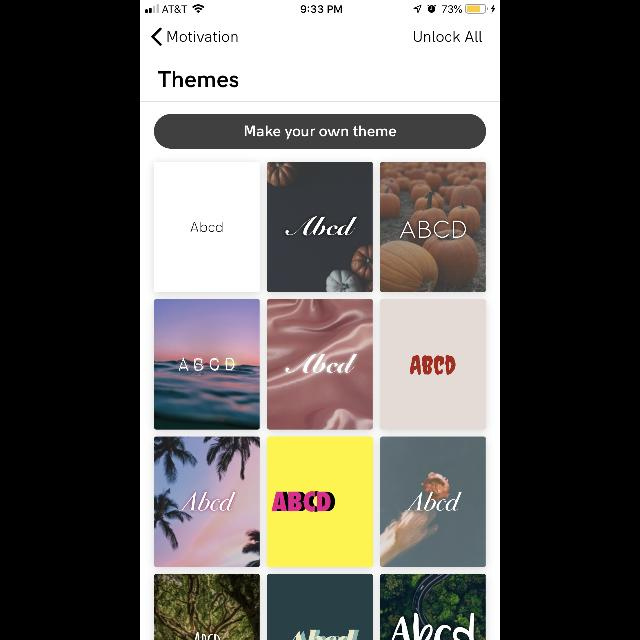icon: (152, 28, 162, 46)
image: (380, 437, 486, 567), (154, 437, 260, 567), (267, 437, 373, 567), (380, 299, 486, 429), (267, 299, 373, 429), (154, 299, 260, 429), (154, 162, 260, 292), (267, 162, 373, 292), (380, 162, 486, 292), (380, 574, 486, 640), (154, 574, 260, 640), (267, 574, 373, 640)
text: (158, 72, 238, 88), (168, 32, 238, 42), (414, 32, 482, 42)
textbutton: (154, 114, 486, 148)
uppertaskbar: (140, 0, 500, 14)
